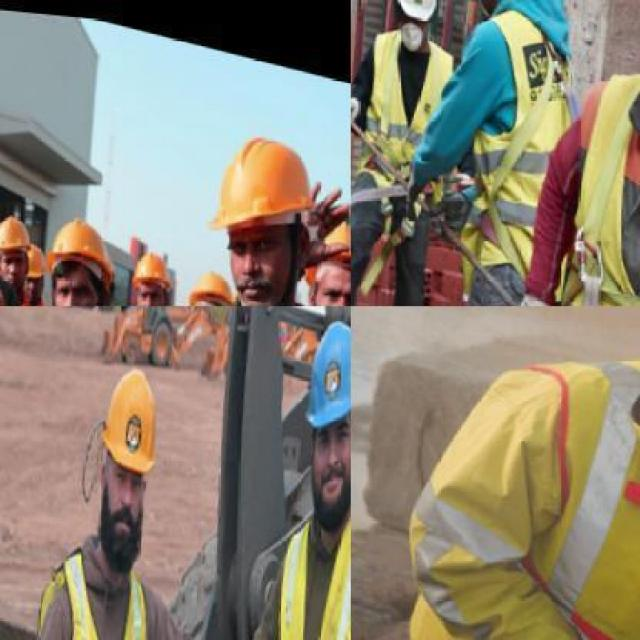vest: (354, 306, 638, 639), (435, 0, 596, 275), (511, 40, 638, 305), (225, 451, 349, 638), (351, 14, 462, 208), (0, 526, 169, 639)
